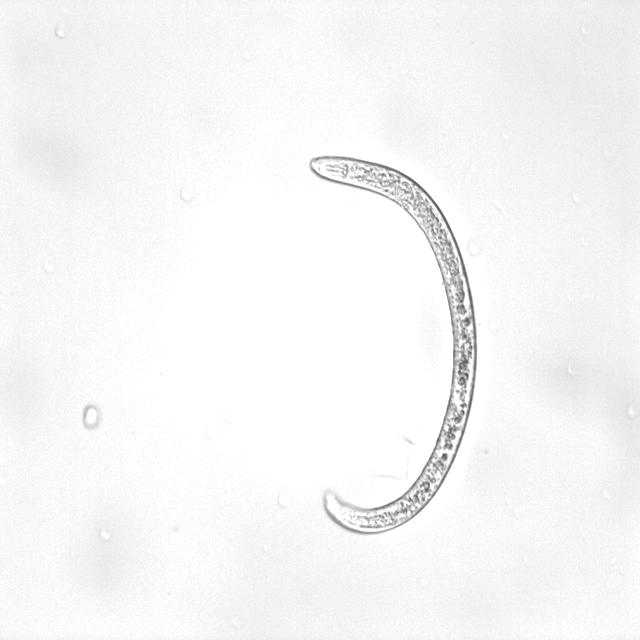Helicotylenchus: (293, 139, 499, 543)
